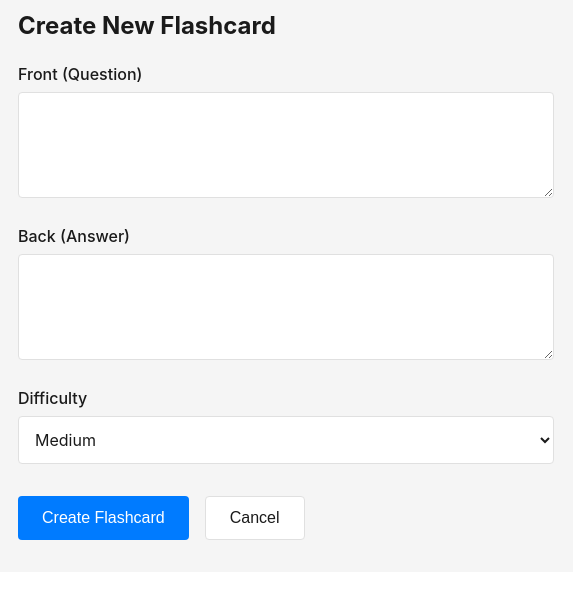
it: FlashcardEditor Component › should validate required fields
What coordinates should you click on to do the following:
click the button "Create Flashcard"
I would click on:
 (103, 518)
Its box is [18, 496, 189, 540].
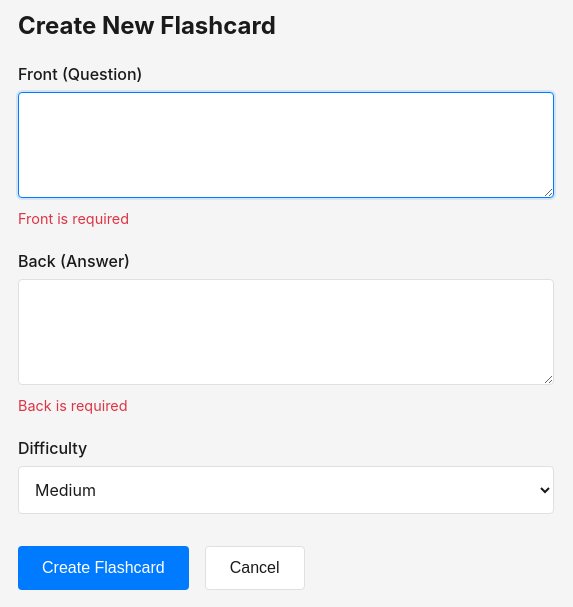
Expected: the text "Front is required" is shown, [18, 210, 129, 227]
